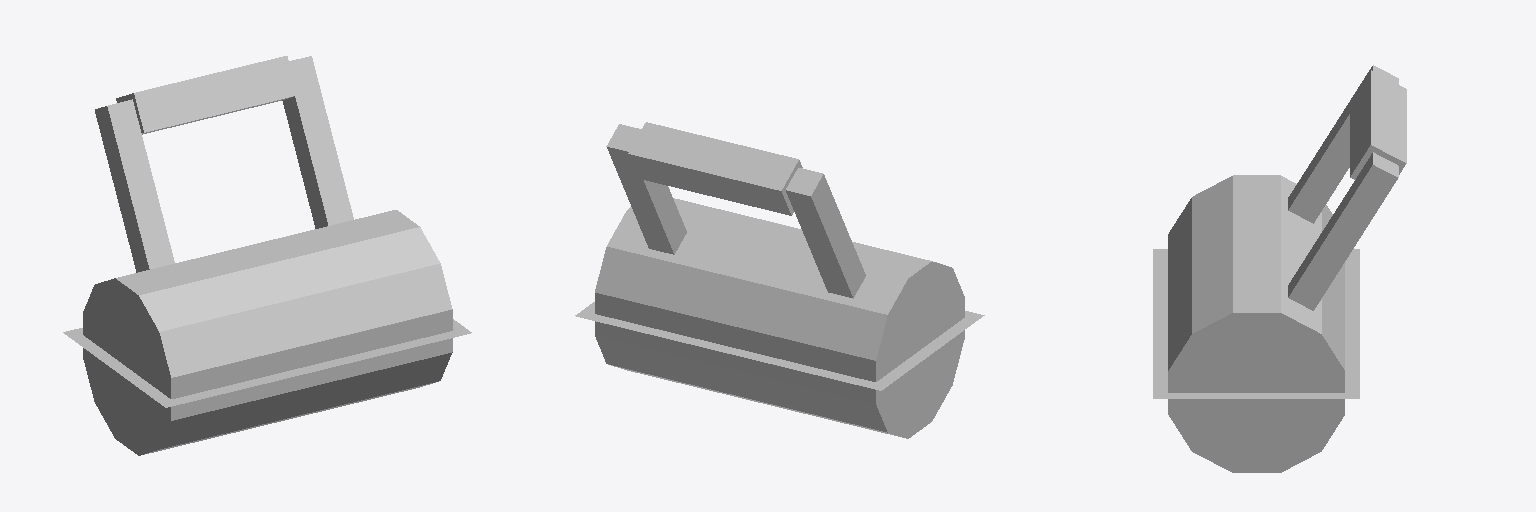
File: flight_lever_pulled.obj
3 renders of one model, left to right at view 1: azimuth 30°, elevation 25°; view 2: azimuth 150°, elevation 25°; view 3: azimuth 270°, elevation 25°, orthographic.
Visible parts, largest first — view 1: cylinder, handle_one, handle_two, handle_four, plane, handle_three; view 2: cylinder, handle_one, handle_four, handle_three, handle_two, plane; view 3: cylinder, handle_two, plane, handle_one, handle_three, handle_four.
Part boxes in pixels (x1,y1,x2,y2): cylinder: (83, 210, 452, 455); handle_one: (95, 99, 174, 272); handle_two: (282, 56, 353, 228); handle_four: (116, 74, 220, 134); plane: (63, 319, 471, 407); handle_three: (207, 56, 297, 118); cylinder: (595, 198, 964, 438); handle_one: (786, 168, 865, 298); handle_four: (705, 141, 802, 215); handle_three: (628, 122, 721, 196); handle_two: (606, 124, 686, 254); plane: (575, 302, 984, 390); cylinder: (1168, 175, 1344, 472); handle_two: (1288, 152, 1398, 310); plane: (1153, 249, 1359, 398); handle_one: (1288, 65, 1398, 223); handle_three: (1350, 108, 1406, 179); handle_four: (1350, 70, 1406, 138).
Size of the model in its own units: 0.75 by 0.694 by 0.5358.